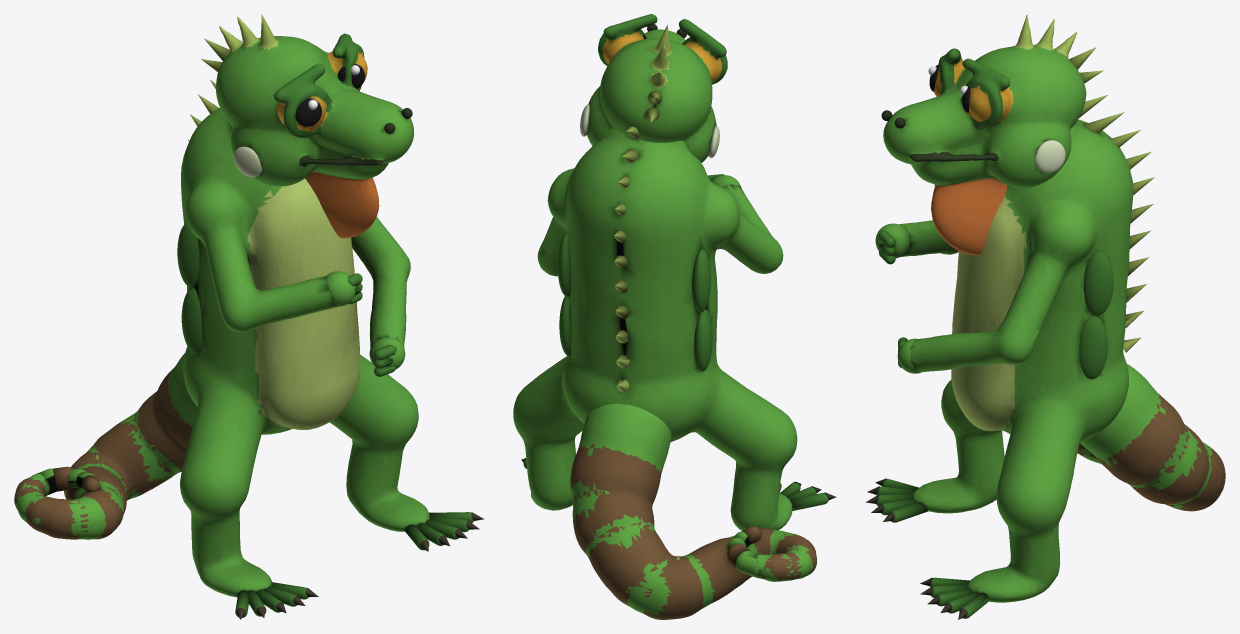
The model's file is kan-jag-lana-din-laddare.glb.
The picture shows the model from 3 angles, left to right: view 1: azimuth 30°, elevation 25°; view 2: azimuth 150°, elevation 25°; view 3: azimuth 270°, elevation 25°; orthographic projection. The views are drawn at different scales.
Parts seen in each view (by area): view 1: iguana__r0, cabeca__r0, rabo__r0, iguana__r32, iguana__r24, iguana__r21, cabeca__r8; view 2: iguana__r0, rabo__r0, cabeca__r0, iguana__r32, iguana__r24, iguana__r43, iguana__r42, rabo__r7, iguana__r1; view 3: iguana__r0, cabeca__r0, rabo__r0, iguana__r43, iguana__r42, cabeca__r10, iguana__r21.
Part boxes in pixels (x1,y1,x2,y2): iguana__r0: (180,108,429,597); cabeca__r0: (216,14,414,238); rabo__r0: (14,350,255,539); iguana__r32: (177,222,199,287); iguana__r24: (181,287,202,353); iguana__r21: (326,271,355,306); cabeca__r8: (233,146,261,177); iguana__r0: (513,128,797,530); rabo__r0: (570,403,816,619); cabeca__r0: (587,14,727,162); iguana__r32: (692,249,711,312); iguana__r24: (694,308,712,371); iguana__r43: (557,233,570,296); iguana__r42: (559,296,571,355); rabo__r7: (735,550,759,577); iguana__r1: (790,493,828,510); iguana__r0: (899,119,1133,602); cabeca__r0: (883,14,1086,255); rabo__r0: (1077,364,1225,511); iguana__r43: (1084,251,1113,315); iguana__r42: (1079,315,1107,379); cabeca__r10: (1035,140,1065,172); iguana__r21: (875,223,910,258).
Size of the model in its own units: 1.58 by 2.12 by 1.31.
